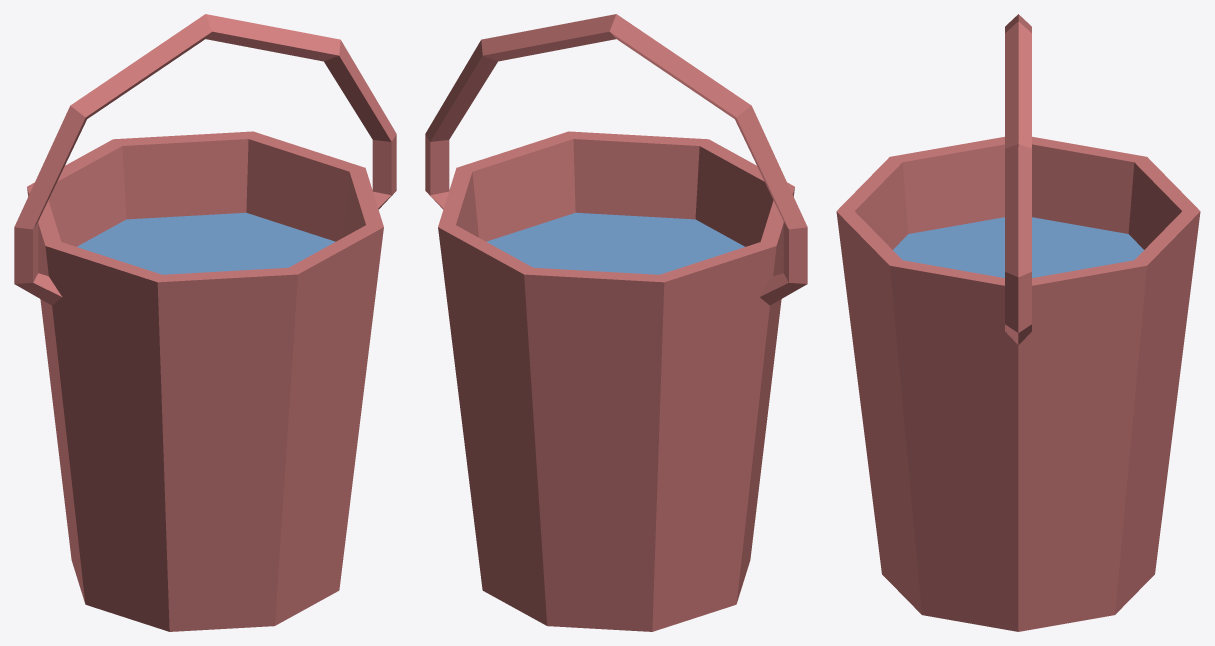
The model's file is Bucket4Water.fbx.
3 views of the same model, side by side, from view 1: azimuth 30°, elevation 25°; view 2: azimuth 150°, elevation 25°; view 3: azimuth 270°, elevation 25° (orthographic).
Visible parts, largest first — view 1: Cylinder, Cylinder.001; view 2: Cylinder, Cylinder.001; view 3: Cylinder, Cylinder.001.
Boxes of the visible parts, <box> form: Cylinder: <box>27,131,383,631</box>; Cylinder.001: <box>14,14,396,305</box>; Cylinder: <box>438,131,794,631</box>; Cylinder.001: <box>425,14,807,305</box>; Cylinder: <box>836,136,1200,631</box>; Cylinder.001: <box>1005,14,1031,344</box>.
Bounding box in the file's own units: 0.717 × 1.01 × 0.6.
